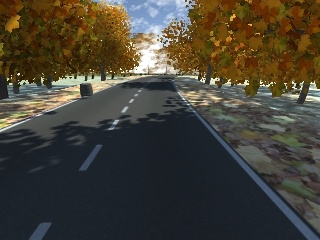Line slipt: (80, 105, 132, 173)
